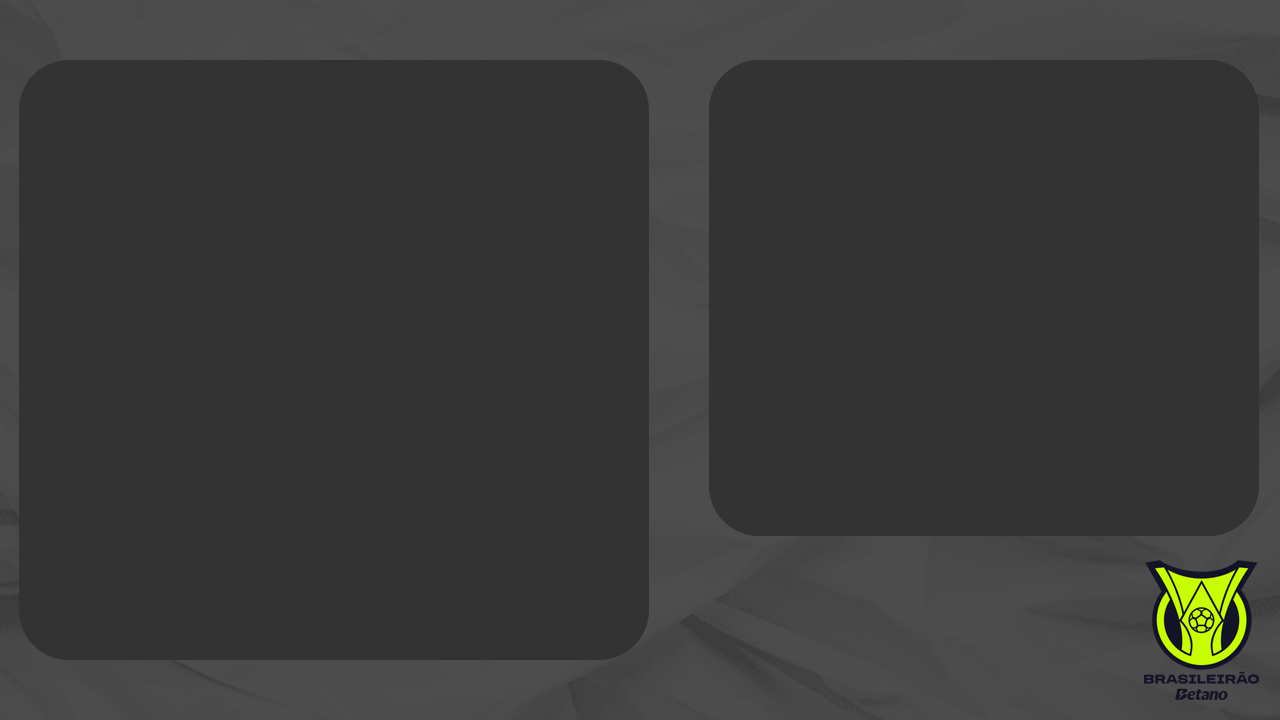

This screenshot's page, from the dashboard's own definition file:
{"tool":"powerbi","page":{"name":"TABELA","canvas":[1280,720],"ordinal":0},"visuals":[{"type":"tableEx","fields":{"Values":["tabela.Classificação","tabela.Time","select","select1","Sum(tabela.PTS)","Sum(tabela.J)"]},"box":[83.5,83.5,485.3,553],"z":1000},{"type":"clusteredBarChart","title":"Melhores aproveitamentos","fields":{"Category":["tabela.Time"],"Y":["Sum(tabela.%)"]},"box":[714.2,83.5,537.1,420.5],"z":3000},{"type":"pageNavigator","box":[750.2,587.5,373,37.4],"z":4000}]}

Visuals, with their boxes in screenshot pixels (x1, y1, x2, y2), scaled from the page's 1280x720 canvas onto the 1280x720 screenshot:
tableEx - tabela.Classificação x tabela.Time: bbox=(84, 84, 569, 636)
"Melhores aproveitamentos" clusteredBarChart: bbox=(714, 84, 1251, 504)
pageNavigator: bbox=(750, 588, 1123, 625)
